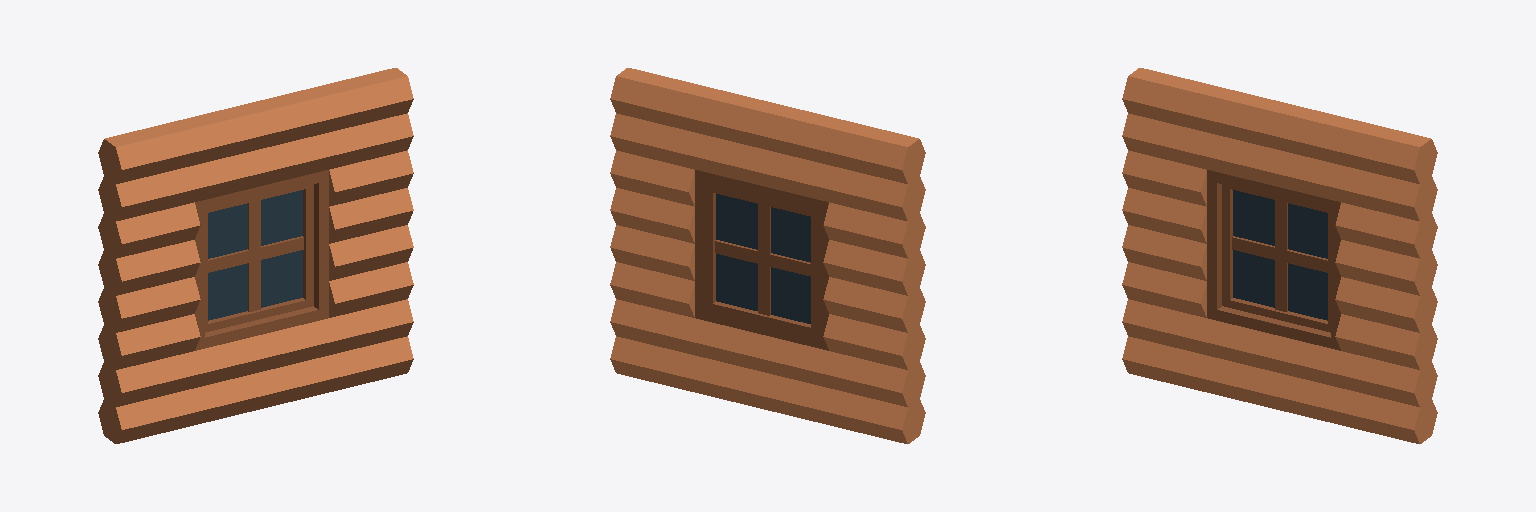
File: cabinWindow.obj
3 renders of one model, left to right at view 1: azimuth 30°, elevation 25°; view 2: azimuth 150°, elevation 25°; view 3: azimuth 330°, elevation 25°, orthographic.
Visible parts, largest first — view 1: cabinWindow, frame; view 2: cabinWindow, frame; view 3: cabinWindow, frame.
Part boxes in pixels (bbox=[...]): cabinWindow: bbox=[98, 68, 413, 443]; frame: bbox=[195, 170, 328, 350]; cabinWindow: bbox=[610, 68, 925, 443]; frame: bbox=[695, 170, 828, 350]; cabinWindow: bbox=[1122, 68, 1437, 443]; frame: bbox=[1207, 170, 1340, 350].
Bounding box in the file's own units: 1 × 0.9727 × 0.1404.